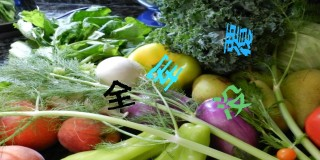全: (103, 79, 136, 109)
军: (146, 55, 183, 91)
没: (214, 84, 252, 119)
覆: (223, 22, 253, 56)
